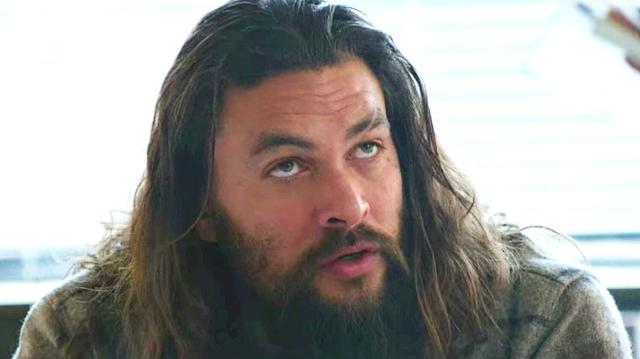forehead: (318, 87, 352, 113)
